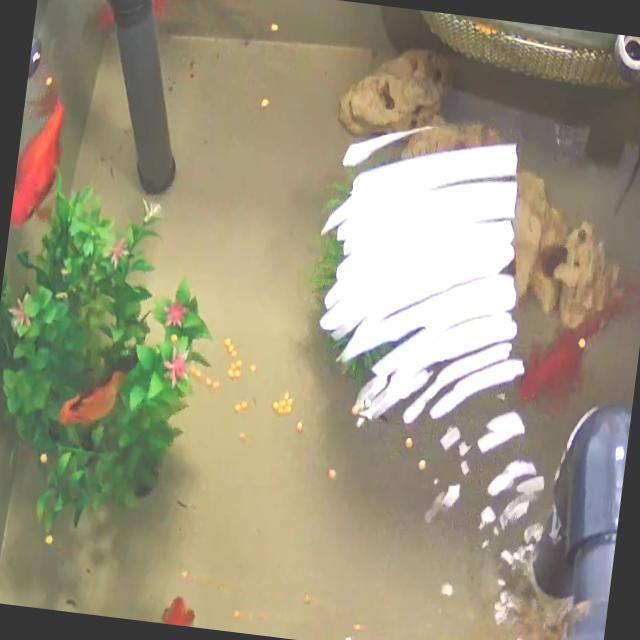fish: (10, 95, 69, 226), (514, 316, 591, 409), (54, 357, 130, 434), (149, 0, 196, 11)
